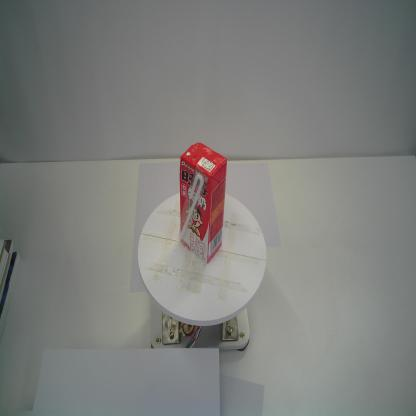Milk: (177, 141, 228, 265)
